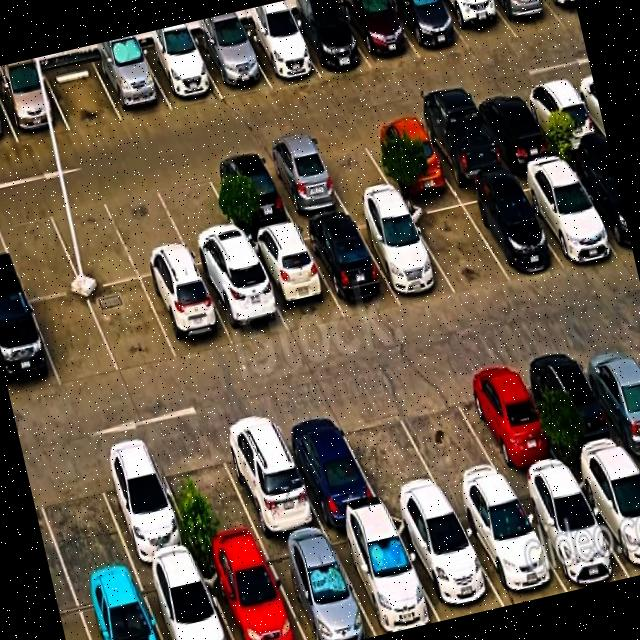empty: (389, 373, 509, 501), (151, 431, 262, 558), (28, 455, 134, 587), (332, 390, 447, 511), (404, 193, 509, 294), (152, 164, 246, 265), (45, 190, 139, 289), (102, 179, 193, 277), (86, 278, 177, 374), (30, 291, 119, 387), (0, 201, 81, 300), (308, 129, 397, 208), (42, 58, 122, 131)
occupied: (213, 411, 324, 543), (452, 359, 567, 485), (89, 442, 197, 571), (272, 403, 383, 528), (511, 474, 628, 591), (451, 488, 566, 606), (326, 516, 439, 636), (522, 344, 630, 469), (390, 504, 503, 621), (261, 533, 375, 640), (511, 161, 619, 265), (456, 180, 561, 280), (245, 228, 344, 334), (299, 215, 399, 318), (351, 205, 455, 302), (198, 546, 305, 640), (141, 267, 234, 360), (196, 255, 289, 346), (572, 456, 640, 577), (573, 333, 640, 454), (413, 102, 507, 186), (204, 152, 295, 237), (137, 560, 232, 640), (564, 151, 633, 256), (259, 140, 347, 222), (361, 116, 452, 193), (470, 88, 557, 167), (519, 77, 605, 153), (0, 298, 60, 400), (288, 5, 370, 78), (73, 574, 162, 640), (92, 48, 172, 120), (140, 40, 222, 110), (337, 0, 419, 69), (239, 20, 320, 87), (194, 30, 270, 98), (0, 69, 69, 142), (388, 0, 468, 58), (438, 0, 517, 50), (491, 0, 564, 37), (546, 0, 580, 25)
